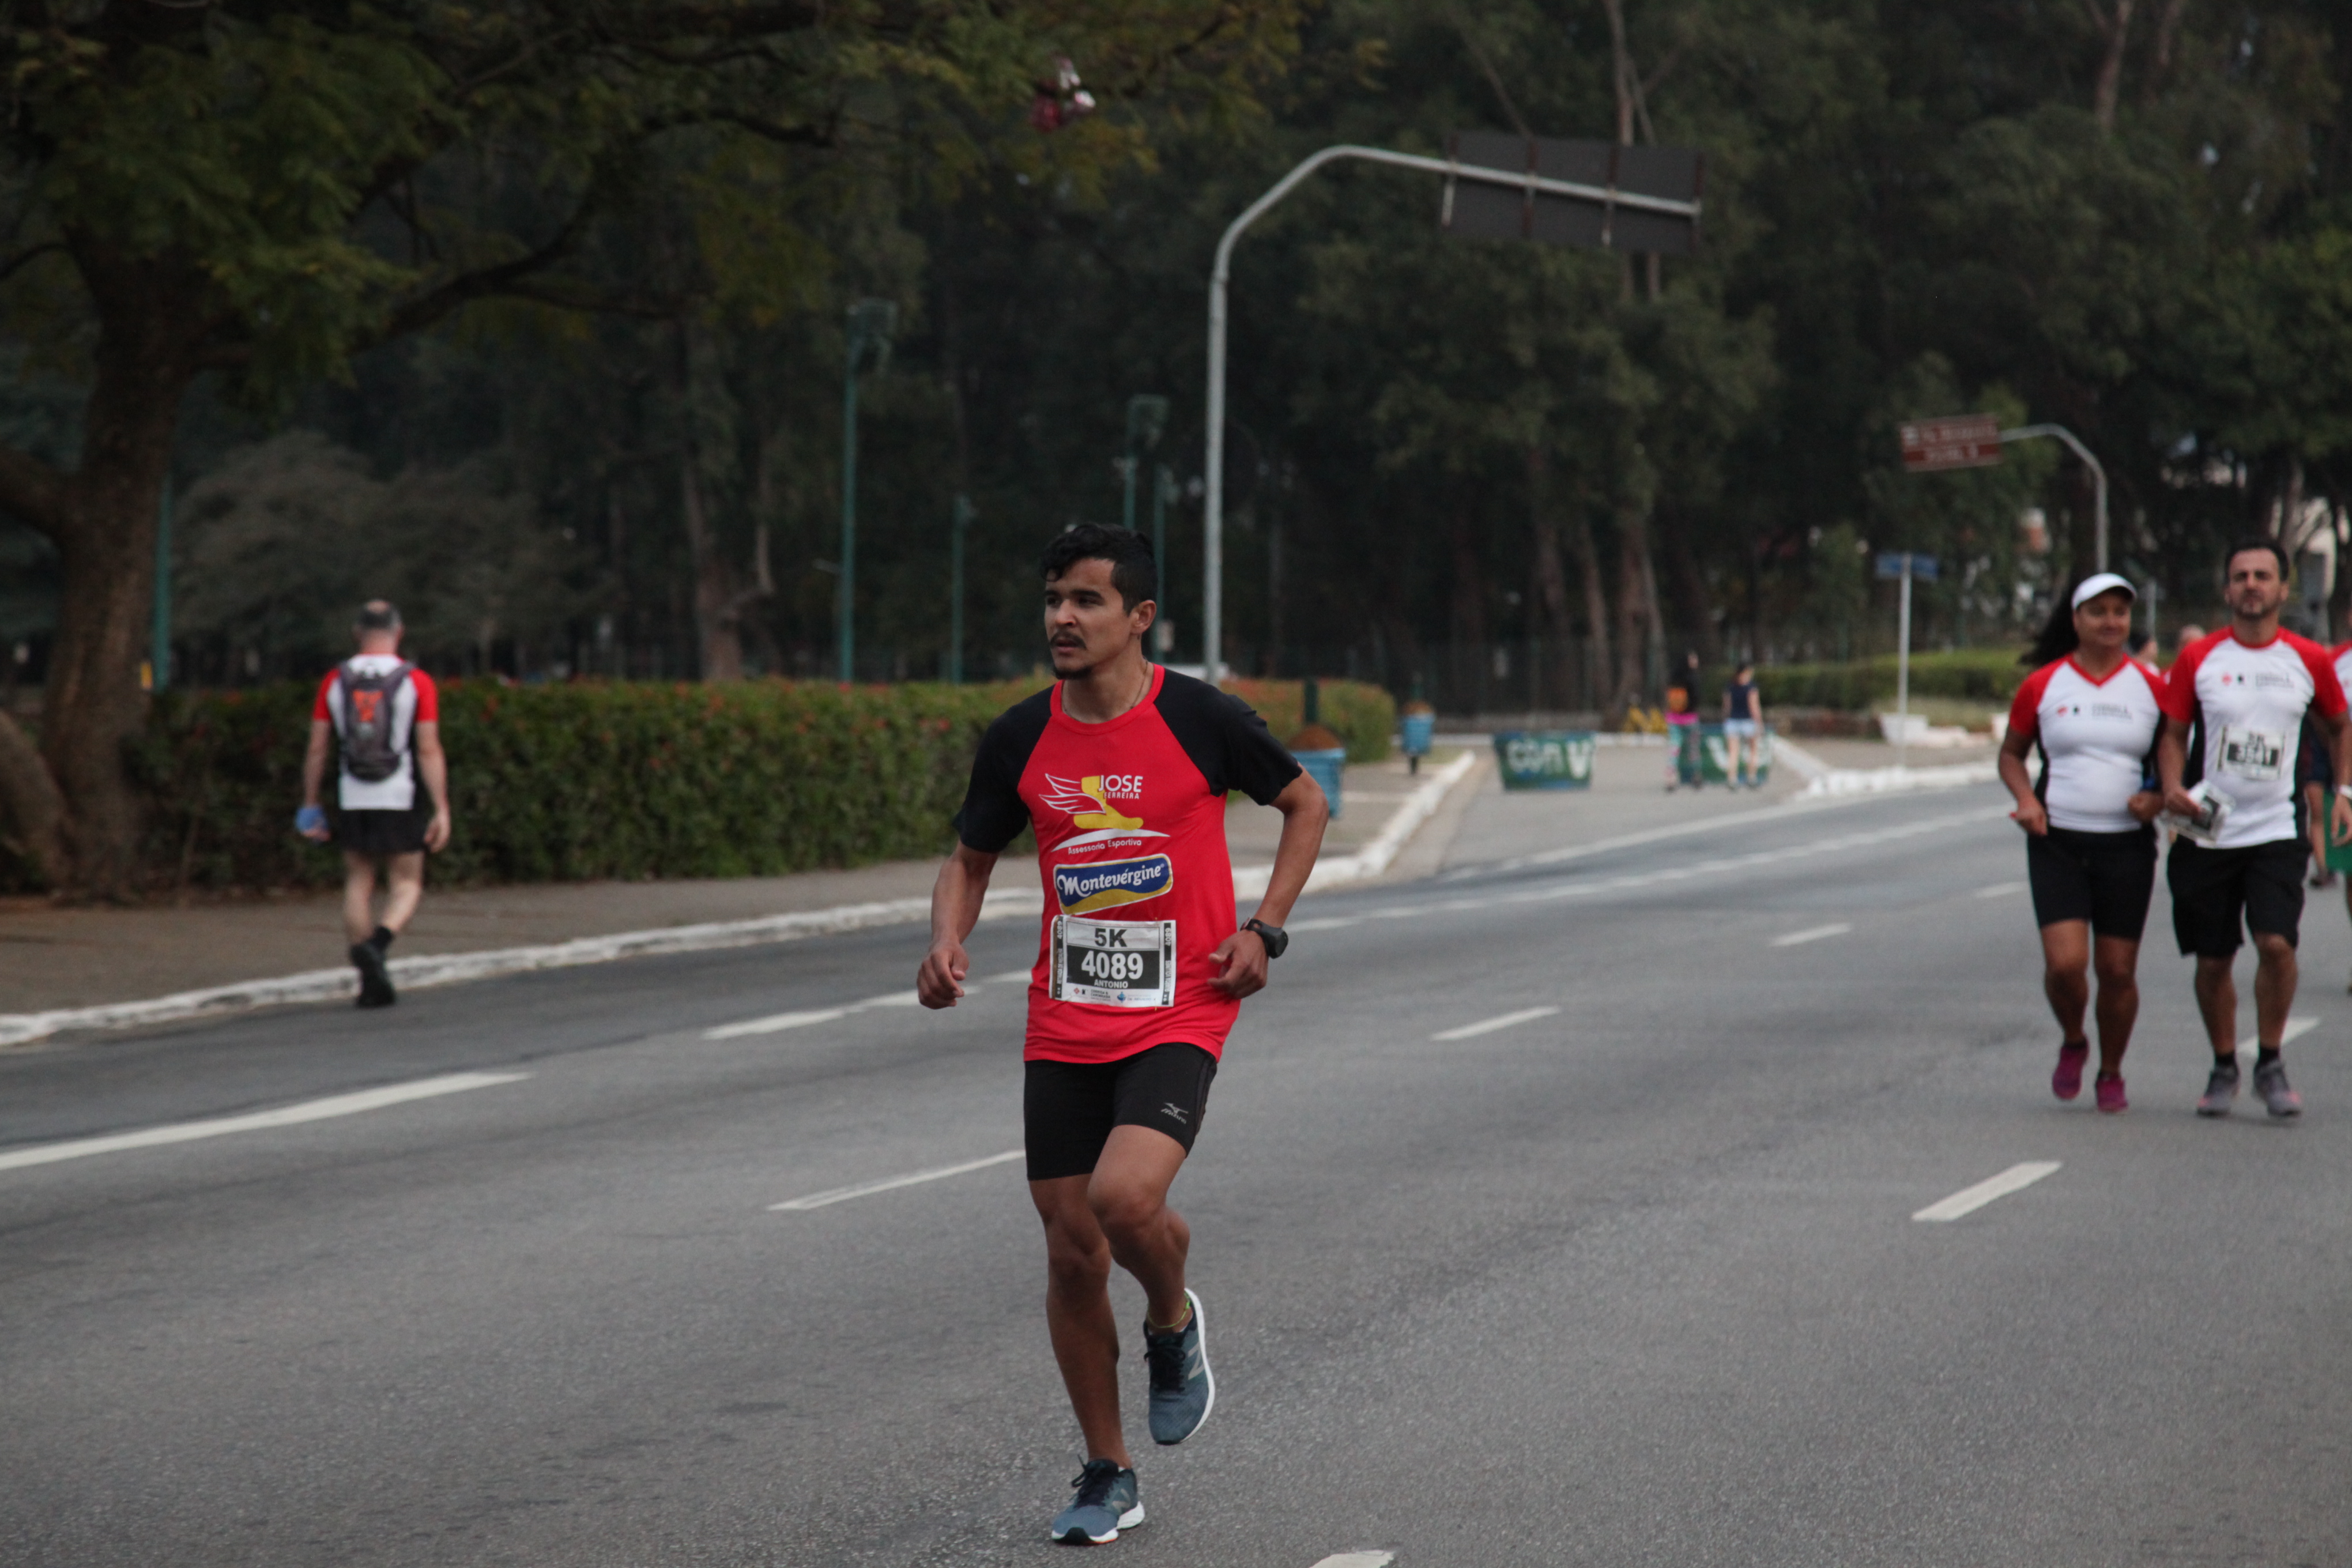bibtag: (1038, 910, 1195, 1022), (2214, 719, 2299, 789)
